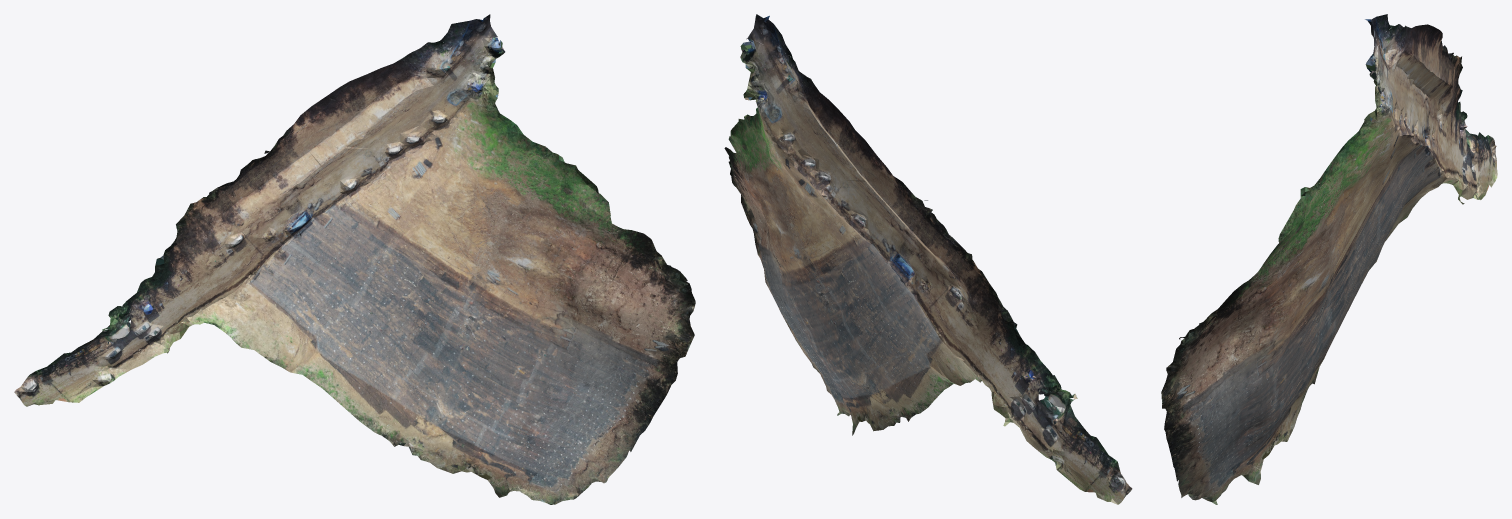
File: perau_07.glb
3 views of the same model, side by side, from view 1: azimuth 30°, elevation 25°; view 2: azimuth 150°, elevation 25°; view 3: azimuth 270°, elevation 25° (orthographic). The views are drawn at different scales.
Visible parts, largest first — view 1: Bloco 1; view 2: Bloco 1; view 3: Bloco 1.
Boxes of the visible parts, x1=… form: Bloco 1: x1=14, y1=14, x2=695, y2=504; Bloco 1: x1=724, y1=14, x2=1132, y2=504; Bloco 1: x1=1161, y1=14, x2=1497, y2=504.
Bounding box in the file's own units: 148 × 116 × 72.65.
Materials: 1 (1 with a texture image).
